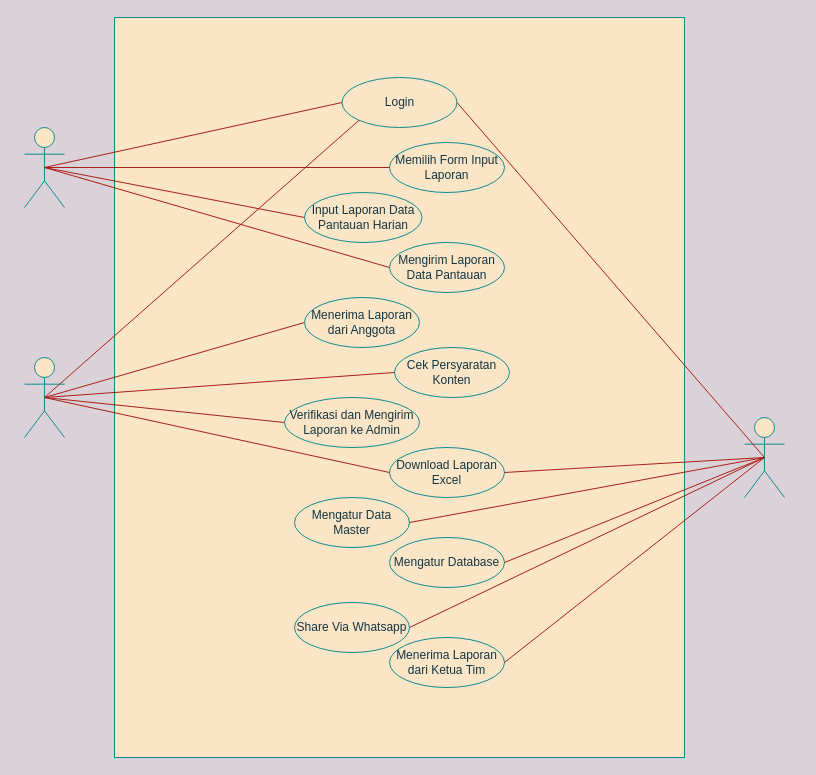
The diagram is 816 pixels wide and 775 high, and some of its shapes have lost their labels. The centre of each missing label's shape, as x and y in pixels:
"Anggota" belongs at (x=44, y=167).
"Ketua Tim" belongs at (x=44, y=397).
"Super Admin" belongs at (x=764, y=457).
